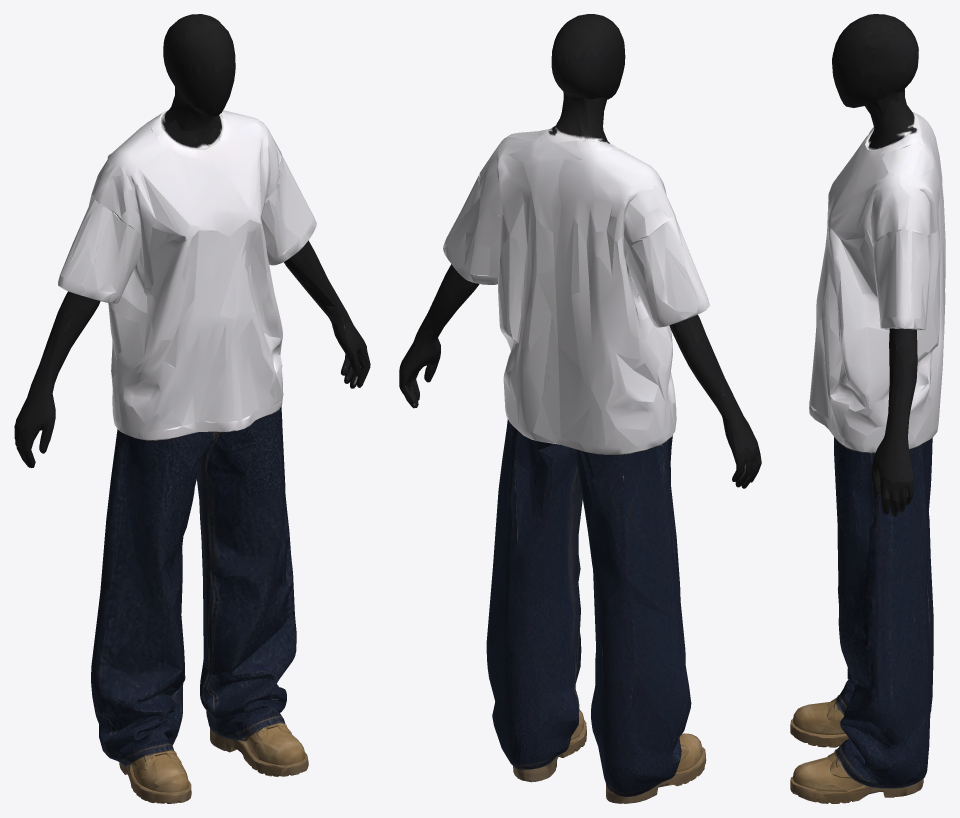
File: femme-baggy.glb
The picture shows the model from 3 angles, left to right: view 1: azimuth 30°, elevation 25°; view 2: azimuth 150°, elevation 25°; view 3: azimuth 270°, elevation 25°; orthographic projection.
Visible parts, largest first — view 1: dressed; view 2: dressed; view 3: dressed.
Part boxes in pixels (x1,y1,x2,y2): dressed: (14, 14, 370, 803); dressed: (399, 14, 761, 803); dressed: (790, 14, 945, 803).
Bounding box in the file's own units: 0.8458 × 1.72 × 0.3236.
Materials: 1 (1 with a texture image).
